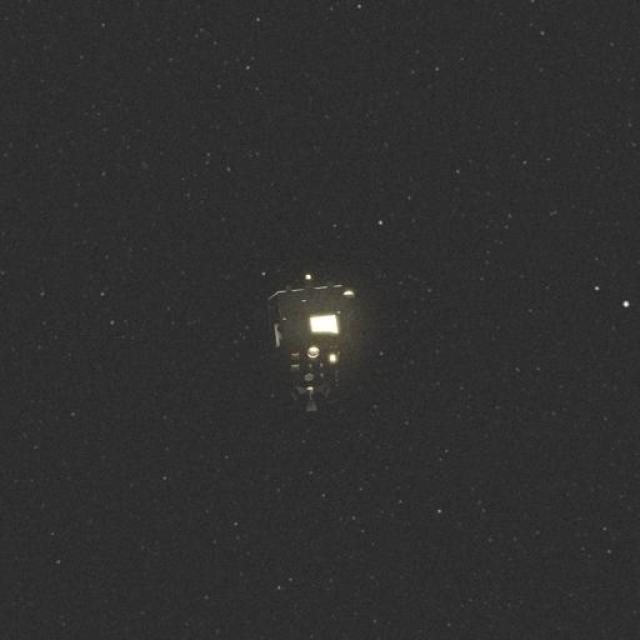proba_3_ocs: (235, 231, 378, 440)
